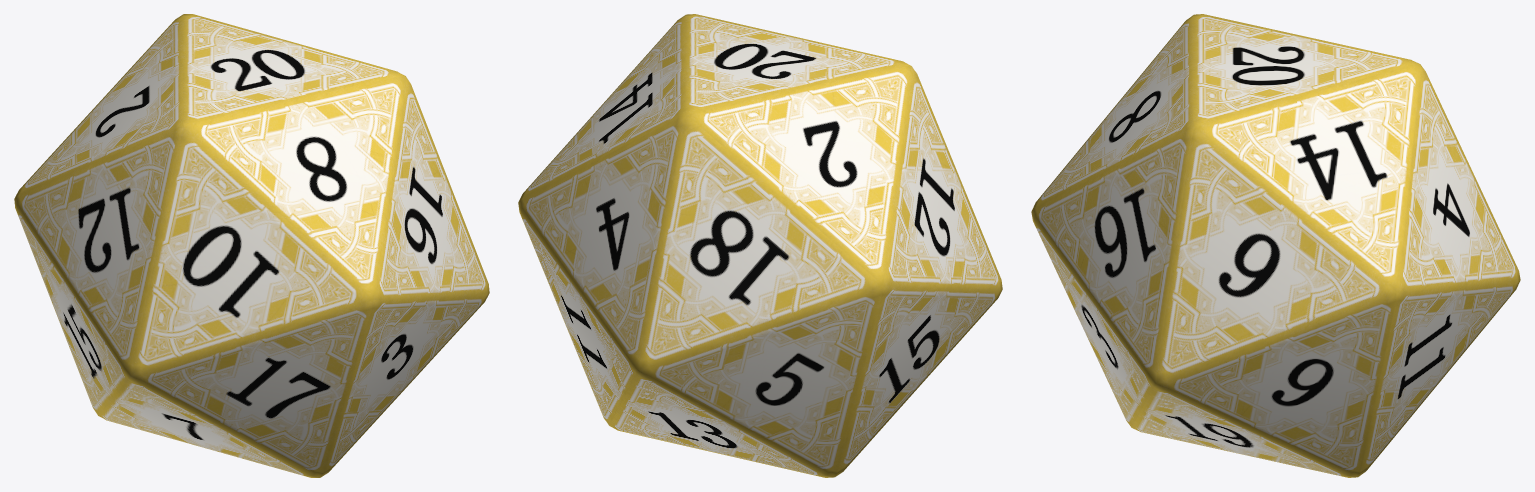
3 views of the same model, side by side, from view 1: azimuth 30°, elevation 25°; view 2: azimuth 150°, elevation 25°; view 3: azimuth 270°, elevation 25° (orthographic).
Visible parts, largest first — view 1: diceLink_new; view 2: diceLink_new; view 3: diceLink_new.
Boxes of the visible parts, box(x1,y1,x2,y2) form: diceLink_new: box(14, 14, 489, 477); diceLink_new: box(518, 14, 1002, 477); diceLink_new: box(1031, 14, 1520, 477).
Bounding box in the file's own units: 0.592 × 0.5684 × 0.6778.
Materials: 2 (1 with a texture image).
